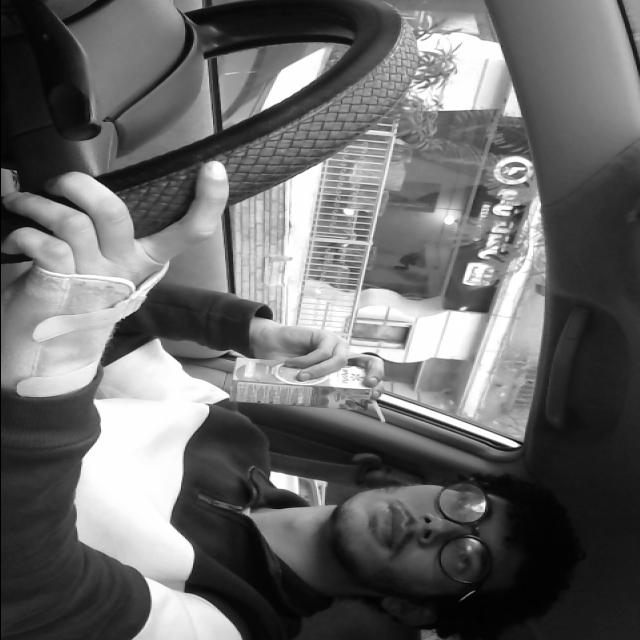drinking: (228, 354, 398, 429)
